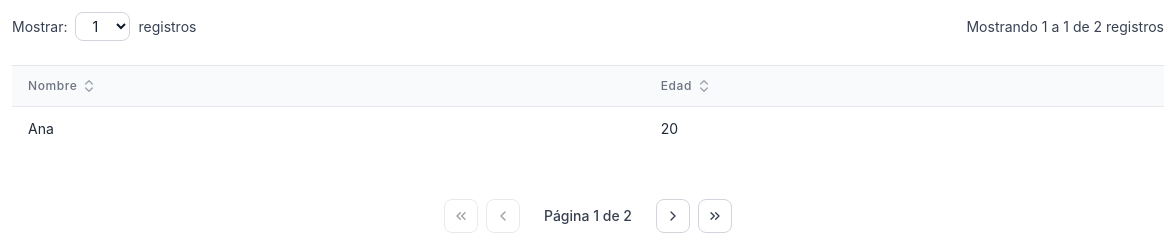
Test: DataTable › paginates data
Expected: the text "Página 1 de 2" is shown, [544,206,632,226]
Expected: the text "Ana" is shown, [12,106,645,151]
Step 1. Click the button titled "Página siguiente" → point(673, 216), box [656,199,690,233]
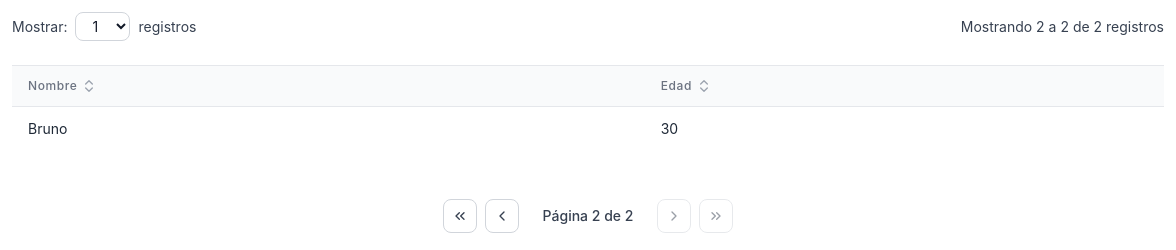
Now the text "Página 2 de 2" is shown, box [543,206,633,226]
Now the text "Bruno" is shown, box [12,106,645,151]
